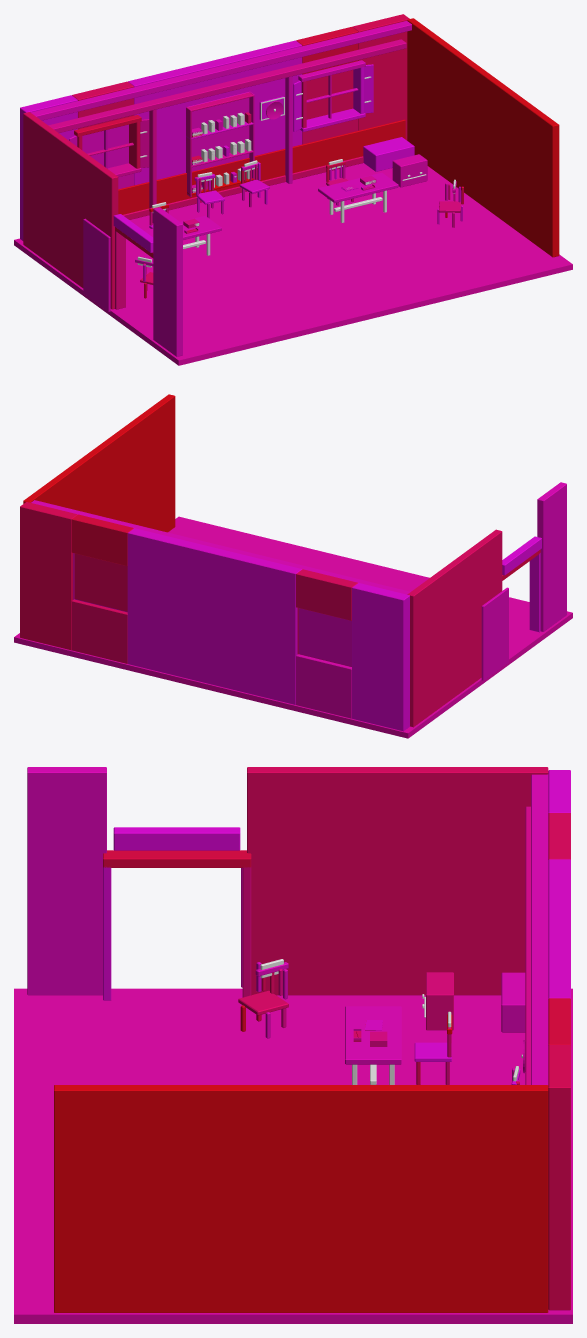
Rendered from court_chapter_09.glb.
The picture shows the model from 3 angles, top to bottom: view 1: azimuth 30°, elevation 25°; view 2: azimuth 150°, elevation 25°; view 3: azimuth 270°, elevation 25°; orthographic projection. The views are drawn at different scales.
Visible parts, largest first — view 1: Floor, WallRight, WallLeftRear, WallBackPier_1, Wainscot, CorniceRear, WallLeftFront, ChanceryArchive, ChanceryCornice, WallBackPier_end, OpenDoorLeaf, ChanceryArchive_Records (+26 smaller); view 2: WallBackPier_1, WallLeftRear, WallRight, Floor, WallBackPier_0, WallBackPier_end, WallLeftFront, WallBackLow_1, WallBackLow_0, Glazing_1, Glazing_0, WallBackHigh_1 (+5 smaller); view 3: WallRight, WallLeftRear, Floor, WallLeftFront, WallBackPier_end, CorniceRear, Desk_0, WallBackPier_1, DoorLintel, EntranceHeader, Chair_officials_2, ChanceryCornice (+8 smaller).
Boxes of the visible parts, x1=… form: Floor: x1=14, y1=163, x2=572, y2=365; WallRight: x1=407, y1=18, x2=559, y2=257; WallLeftRear: x1=23, y1=112, x2=118, y2=309; WallBackPier_1: x1=128, y1=40, x2=302, y2=185; Wainscot: x1=118, y1=119, x2=405, y2=214; CorniceRear: x1=31, y1=21, x2=411, y2=120; WallLeftFront: x1=153, y1=207, x2=182, y2=356; ChanceryArchive: x1=186, y1=91, x2=254, y2=197; ChanceryCornice: x1=48, y1=39, x2=406, y2=132; WallBackPier_end: x1=352, y1=14, x2=409, y2=140; OpenDoorLeaf: x1=83, y1=218, x2=110, y2=311; ChanceryArchive_Records: x1=192, y1=112, x2=251, y2=193; WallBackPier_1: x1=127, y1=528, x2=301, y2=704; WallLeftRear: x1=407, y1=529, x2=502, y2=727; WallRight: x1=23, y1=394, x2=175, y2=532; Floor: x1=14, y1=516, x2=572, y2=738; WallBackPier_0: x1=352, y1=583, x2=409, y2=731; WallBackPier_end: x1=20, y1=502, x2=77, y2=650; WallLeftFront: x1=537, y1=482, x2=566, y2=631; WallBackLow_1: x1=71, y1=599, x2=127, y2=663; WallBackLow_0: x1=296, y1=654, x2=351, y2=718; Glazing_1: x1=74, y1=553, x2=127, y2=611; Glazing_0: x1=298, y1=608, x2=351, y2=666; WallBackHigh_1: x1=71, y1=514, x2=133, y2=566; WallRight: x1=54, y1=1085, x2=548, y2=1312; WallLeftRear: x1=247, y1=767, x2=548, y2=995; Floor: x1=14, y1=988, x2=572, y2=1323; WallLeftFront: x1=27, y1=767, x2=106, y2=995; WallBackPier_end: x1=548, y1=1045, x2=570, y2=1310; CorniceRear: x1=531, y1=774, x2=548, y2=1084; Desk_0: x1=345, y1=1006, x2=401, y2=1084; WallBackPier_1: x1=548, y1=859, x2=570, y2=998; DoorLintel: x1=113, y1=827, x2=240, y2=850; EntranceHeader: x1=103, y1=850, x2=251, y2=867; Chair_officials_2: x1=238, y1=959, x2=288, y2=1038; ChanceryCornice: x1=525, y1=806, x2=530, y2=1084.
Bounding box in the file's own units: 11.7 × 3.85 × 8.4.
